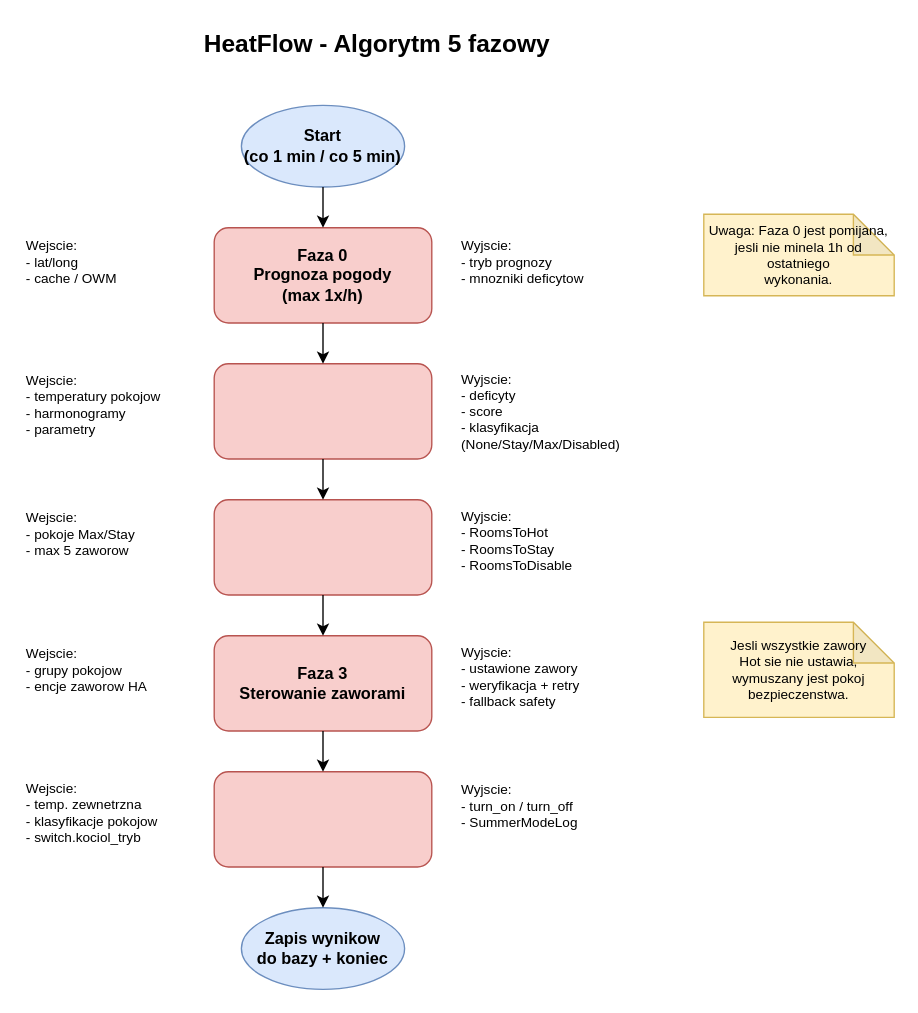
The diagram is 918 pixels wide and 1013 high, and some of its shapes have lost their labels. The shapes that lost their labels are listed below. From the top down, each one's centre as x and y in pixels, then its label:
the point at 322,410: Faza 1 Diagnoza zapotrzebowania
the point at 322,546: Faza 2 Arbitraz pokojow
the point at 322,818: Faza 4 Tryb letni / zimny
